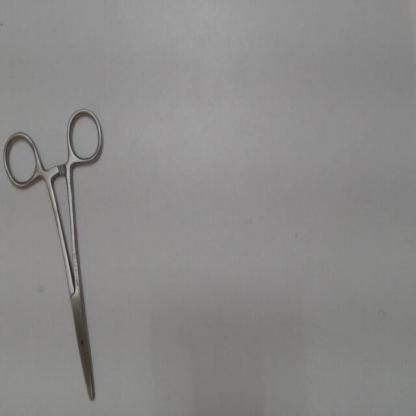Mayo Needle Holder: (1, 100, 111, 414)
